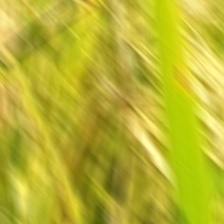Bacterial_Leaf_Blight: (175, 65, 191, 92)
